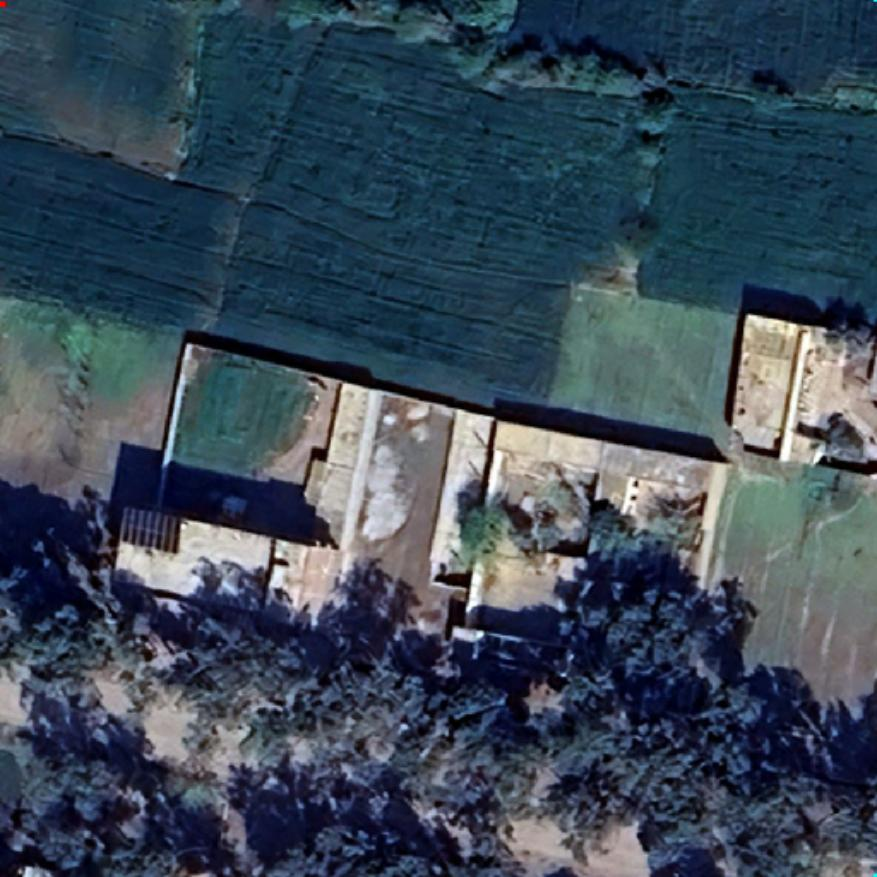Solarpanel: (116, 502, 186, 558)
